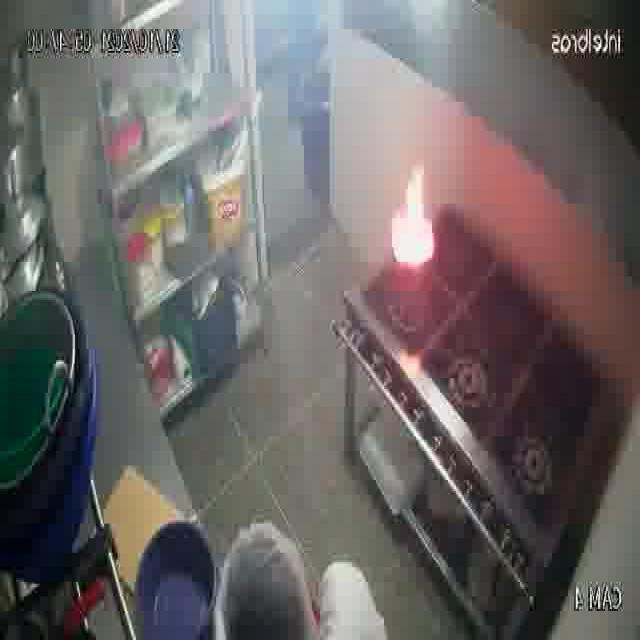Fire: (378, 144, 452, 305)
